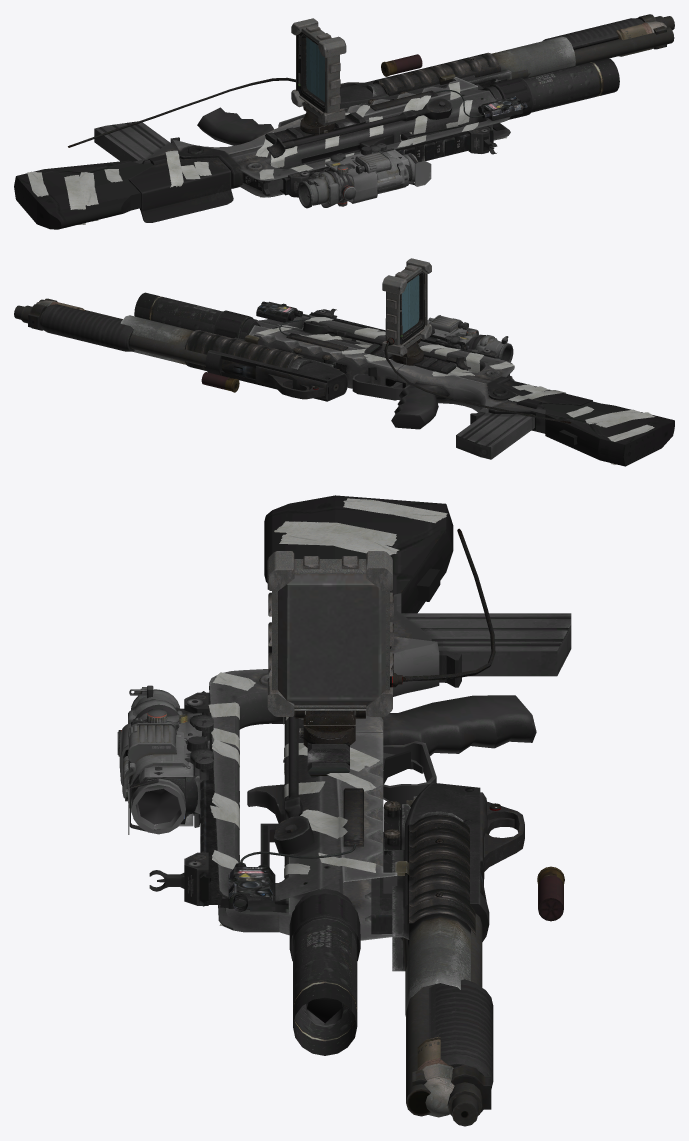
Rendered from viewmodel_famas_red_tiger_LOD0.obj.
3 renders of one model, top to bottom at view 1: azimuth 30°, elevation 25°; view 2: azimuth 150°, elevation 25°; view 3: azimuth 270°, elevation 25°, orthographic. The views are drawn at different scales.
Parts seen in each view (by area): view 1: mtl_weapon_famas_f1_red_tiger, mtl_weapon_m203, mtl_weapon_motion_tracker_red_tiger, mtl_weapon_tape, mtl_weapon_shotgun_masterkey, mtl_weapon_suppressor_b, mtl_weapon_acog_2_red_tiger, mtl_weapon_thermal_sight_2_red_tiger, mtl_weapon_eotech_2_red_tiger, mtl_motion_tracker_screen; view 2: mtl_weapon_famas_f1_red_tiger, mtl_weapon_shotgun_masterkey, mtl_weapon_motion_tracker_red_tiger, mtl_weapon_m203, mtl_weapon_tape, mtl_weapon_suppressor_b, mtl_motion_tracker_screen, mtl_weapon_acog_2_red_tiger, mtl_weapon_thermal_sight_2_red_tiger, mtl_weapon_eotech_2_red_tiger; view 3: mtl_weapon_famas_f1_red_tiger, mtl_weapon_motion_tracker_red_tiger, mtl_weapon_shotgun_masterkey, mtl_weapon_m203, mtl_weapon_tape, mtl_weapon_suppressor_b, mtl_weapon_thermal_sight_2_red_tiger, mtl_weapon_acog_2_red_tiger, mtl_weapon_red_dot_sight_red_tiger, mtl_weapon_eotech_2_red_tiger, mtl_weapon_thermal_lens_2.
Part boxes in pixels (box(x1,y1,x2,y2)): mtl_weapon_famas_f1_red_tiger: box(14, 77, 527, 229); mtl_weapon_m203: box(343, 21, 666, 110); mtl_weapon_motion_tracker_red_tiger: box(68, 18, 365, 147); mtl_weapon_tape: box(27, 82, 506, 224); mtl_weapon_shotgun_masterkey: box(340, 14, 674, 108); mtl_weapon_suppressor_b: box(482, 58, 619, 119); mtl_weapon_acog_2_red_tiger: box(297, 145, 409, 208); mtl_weapon_thermal_sight_2_red_tiger: box(321, 146, 431, 207); mtl_weapon_eotech_2_red_tiger: box(325, 152, 377, 203); mtl_motion_tracker_screen: box(306, 37, 324, 102); mtl_weapon_famas_f1_red_tiger: box(249, 301, 674, 466); mtl_weapon_shotgun_masterkey: box(14, 298, 347, 401); mtl_weapon_motion_tracker_red_tiger: box(364, 258, 571, 423); mtl_weapon_m203: box(36, 300, 339, 370); mtl_weapon_tape: box(256, 317, 655, 464); mtl_weapon_suppressor_b: box(134, 292, 260, 339); mtl_motion_tracker_screen: box(402, 275, 419, 333); mtl_weapon_acog_2_red_tiger: box(427, 317, 513, 362); mtl_weapon_thermal_sight_2_red_tiger: box(428, 315, 485, 349); mtl_weapon_eotech_2_red_tiger: box(420, 328, 478, 349); mtl_weapon_famas_f1_red_tiger: box(149, 495, 571, 1026); mtl_weapon_motion_tracker_red_tiger: box(267, 528, 495, 777); mtl_weapon_shotgun_masterkey: box(371, 783, 564, 1126); mtl_weapon_m203: box(383, 796, 475, 1117); mtl_weapon_tape: box(208, 498, 447, 925); mtl_weapon_suppressor_b: box(289, 888, 360, 1055); mtl_weapon_thermal_sight_2_red_tiger: box(122, 704, 207, 834); mtl_weapon_acog_2_red_tiger: box(117, 685, 213, 814); mtl_weapon_red_dot_sight_red_tiger: box(139, 720, 213, 827); mtl_weapon_eotech_2_red_tiger: box(119, 713, 209, 815); mtl_weapon_thermal_lens_2: box(138, 788, 179, 824).
Size of the model in its own units: 90.74 by 17.91 by 29.11.
